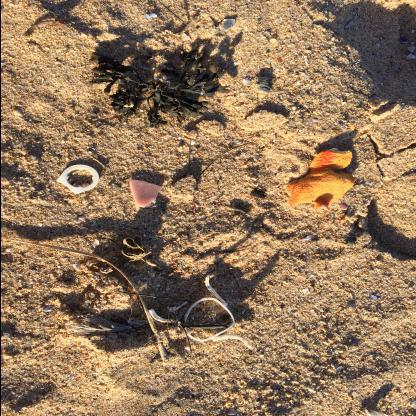diger: (129, 181, 163, 210)
plastik: (55, 166, 99, 196)
